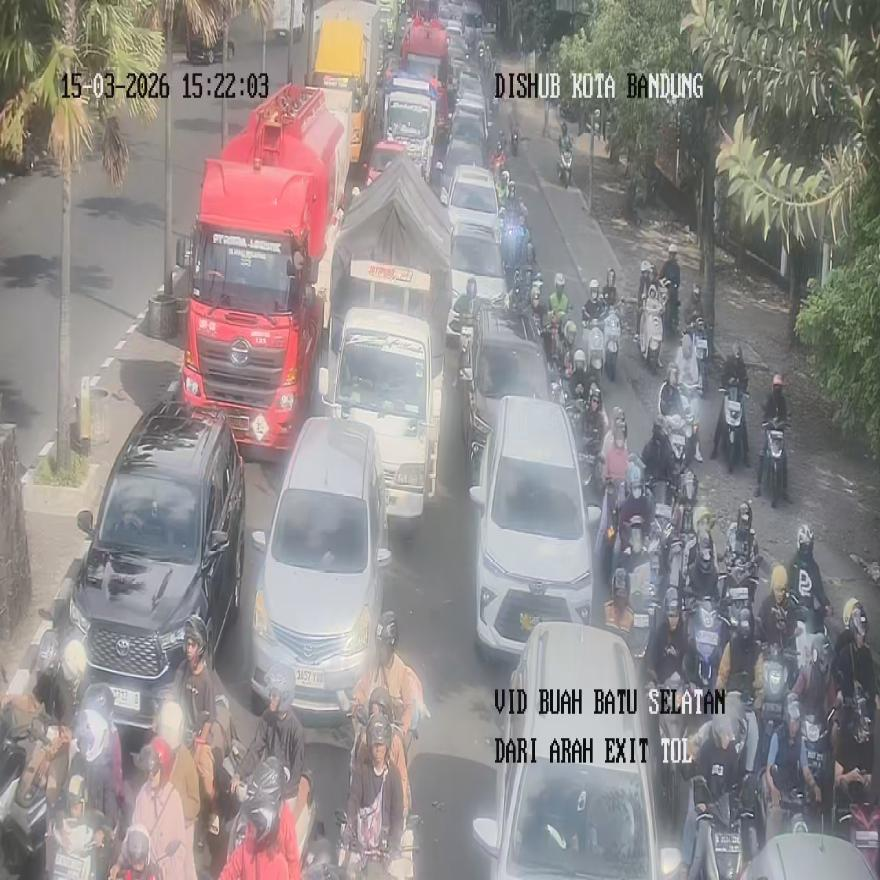Mobil: (66, 397, 244, 732), (472, 622, 682, 879), (248, 418, 390, 722), (469, 394, 601, 661), (459, 303, 552, 488)
Motor: (649, 671, 703, 829), (688, 777, 760, 880), (334, 808, 418, 880), (835, 778, 880, 878), (716, 382, 747, 470), (760, 419, 788, 506), (676, 379, 702, 464), (684, 319, 709, 396), (641, 307, 663, 374), (659, 279, 681, 336), (602, 312, 620, 380), (583, 323, 604, 380), (557, 149, 572, 188)
Truk berat: (176, 82, 349, 437)
Truk ringan: (319, 304, 442, 522)
